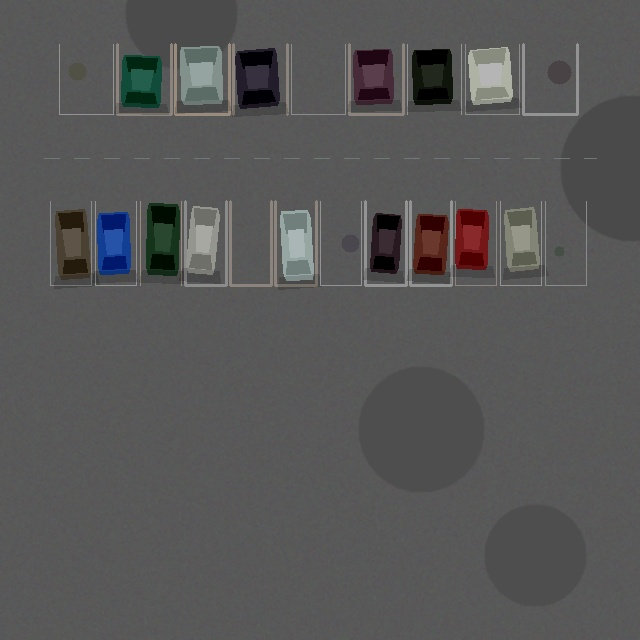space-empty: (59, 44, 113, 114), (291, 44, 345, 114), (523, 44, 577, 114), (230, 201, 271, 285), (320, 201, 361, 285), (545, 201, 586, 285)
space-occupied: (117, 44, 171, 114), (175, 44, 229, 114), (233, 44, 287, 114), (349, 44, 403, 114), (407, 44, 461, 114), (465, 44, 519, 114), (50, 201, 91, 285), (95, 201, 136, 285), (140, 201, 181, 285), (185, 201, 226, 285), (275, 201, 316, 285), (365, 201, 406, 285), (410, 201, 451, 285), (455, 201, 496, 285), (500, 201, 541, 285)
